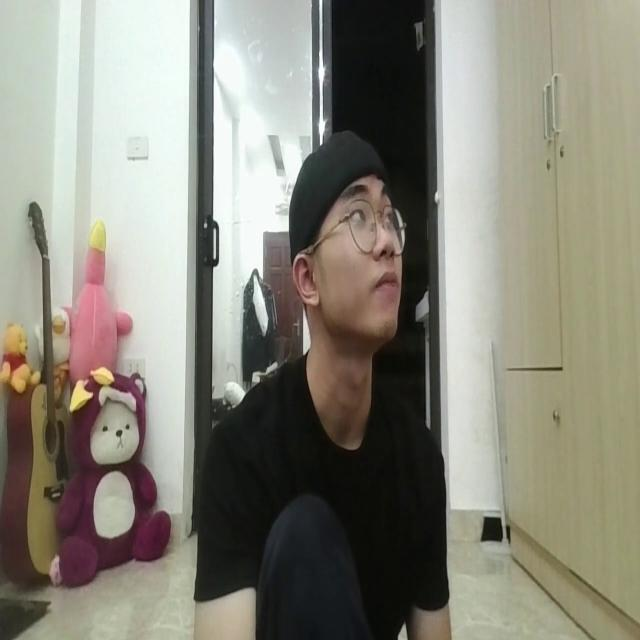student: (198, 122, 451, 640)
